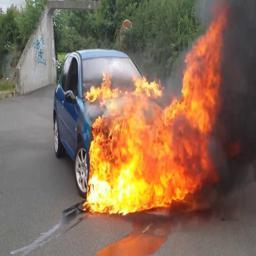fire: (85, 0, 226, 214)
